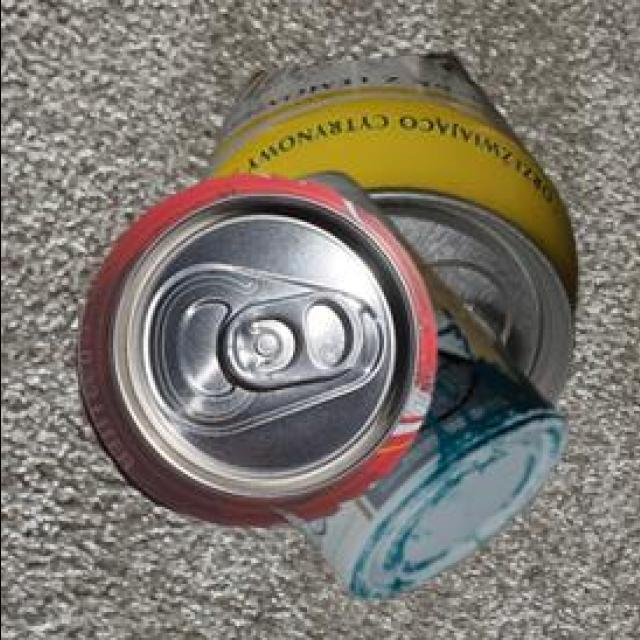logam: (204, 48, 580, 403), (78, 172, 438, 524), (295, 169, 571, 594)
